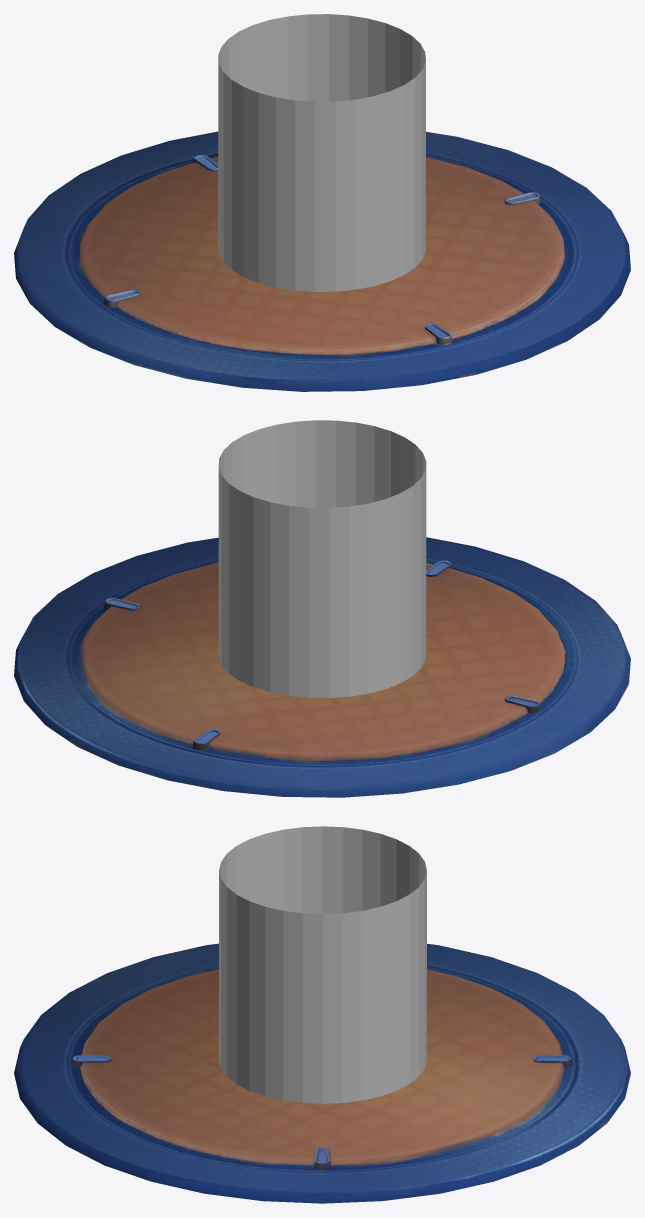
The model's file is pref_TPC_v2_WSJ_NeutralScoreArea03_orange_born_lv1.fbx.
3 renders of one model, top to bottom at view 1: azimuth 30°, elevation 25°; view 2: azimuth 150°, elevation 25°; view 3: azimuth 270°, elevation 25°, orthographic.
Parts seen in each view (by area): view 1: sm_prop_platform06a_lv1, sm_fx_scorearea03_mesh_01_gp (1); view 2: sm_prop_platform06a_lv1, sm_fx_scorearea03_mesh_01_gp (1); view 3: sm_prop_platform06a_lv1, sm_fx_scorearea03_mesh_01_gp (1).
Boxes of the visible parts, box(x1,y1,x2,y2) form: sm_prop_platform06a_lv1: box(14, 131, 630, 391); sm_fx_scorearea03_mesh_01_gp (1): box(218, 14, 425, 291); sm_prop_platform06a_lv1: box(14, 537, 630, 797); sm_fx_scorearea03_mesh_01_gp (1): box(218, 420, 426, 698); sm_prop_platform06a_lv1: box(14, 943, 630, 1203); sm_fx_scorearea03_mesh_01_gp (1): box(219, 826, 426, 1103).
Bounding box in the file's own units: 7.46 × 3.07 × 7.46.
